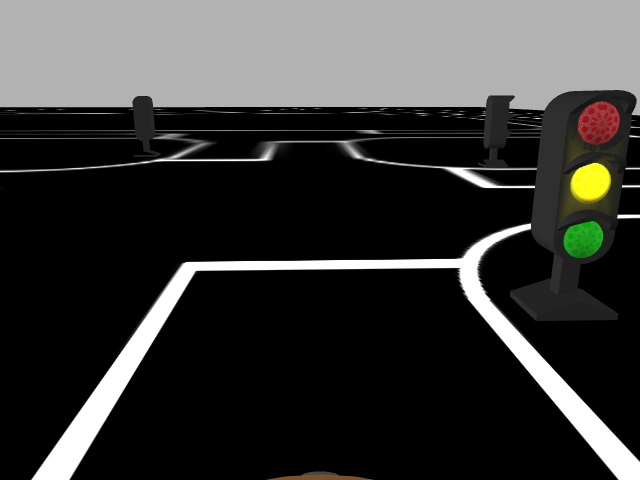yellow_light: (548, 89, 638, 262)
